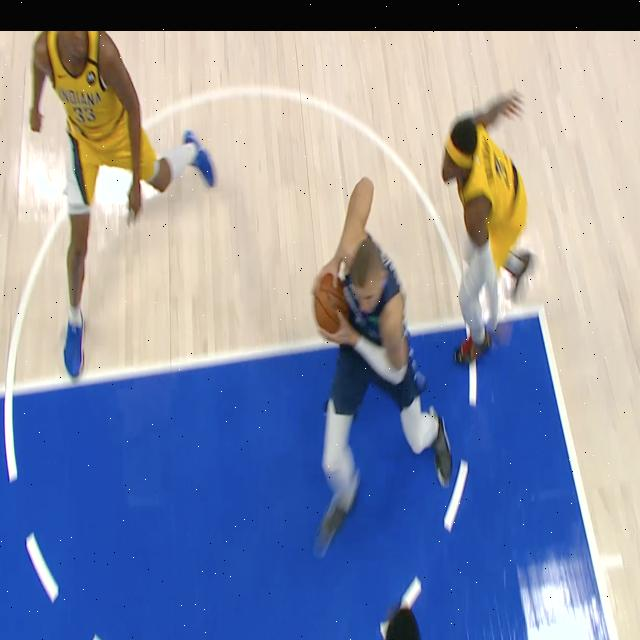no foul: (258, 49, 578, 599)
